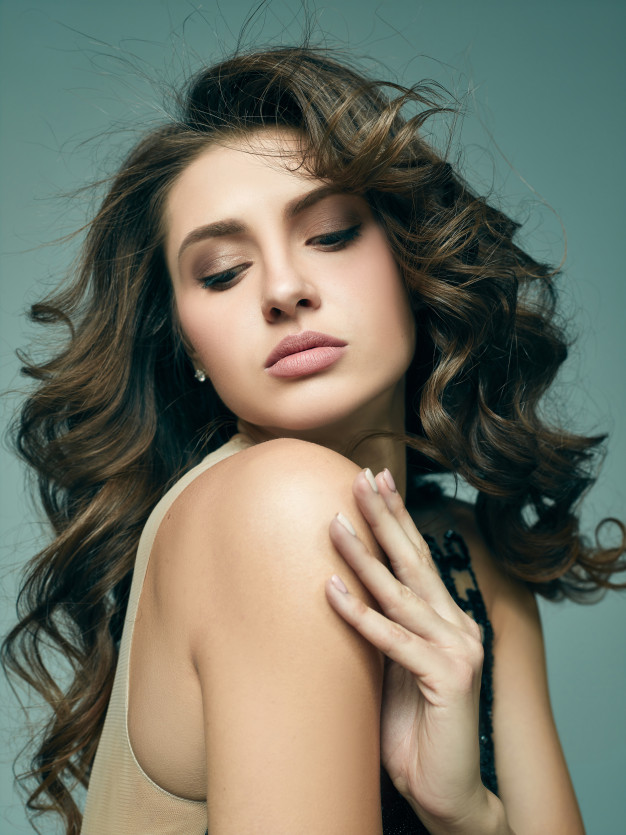GIRL: (132, 98, 440, 435)
